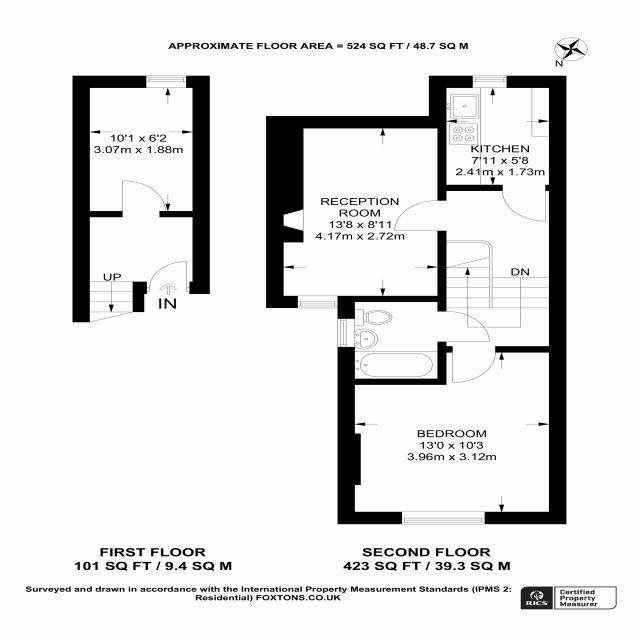DOOR: (389, 196, 447, 235), (500, 184, 550, 226), (119, 178, 171, 218), (447, 346, 500, 385), (437, 309, 492, 343), (147, 258, 190, 292)
ROOM: (337, 347, 567, 525), (266, 115, 447, 319), (429, 75, 567, 223), (72, 75, 211, 217)
WINDOW: (396, 509, 490, 527), (333, 316, 359, 349), (292, 293, 339, 310), (144, 74, 189, 91), (470, 73, 509, 89)
